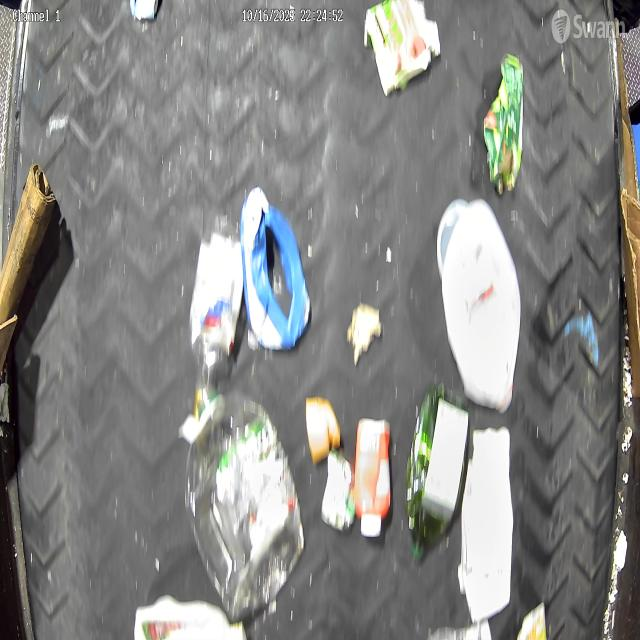can: (128, 2, 162, 24)
milk_jug: (436, 198, 520, 413)
non_white_jug: (186, 383, 304, 622)
